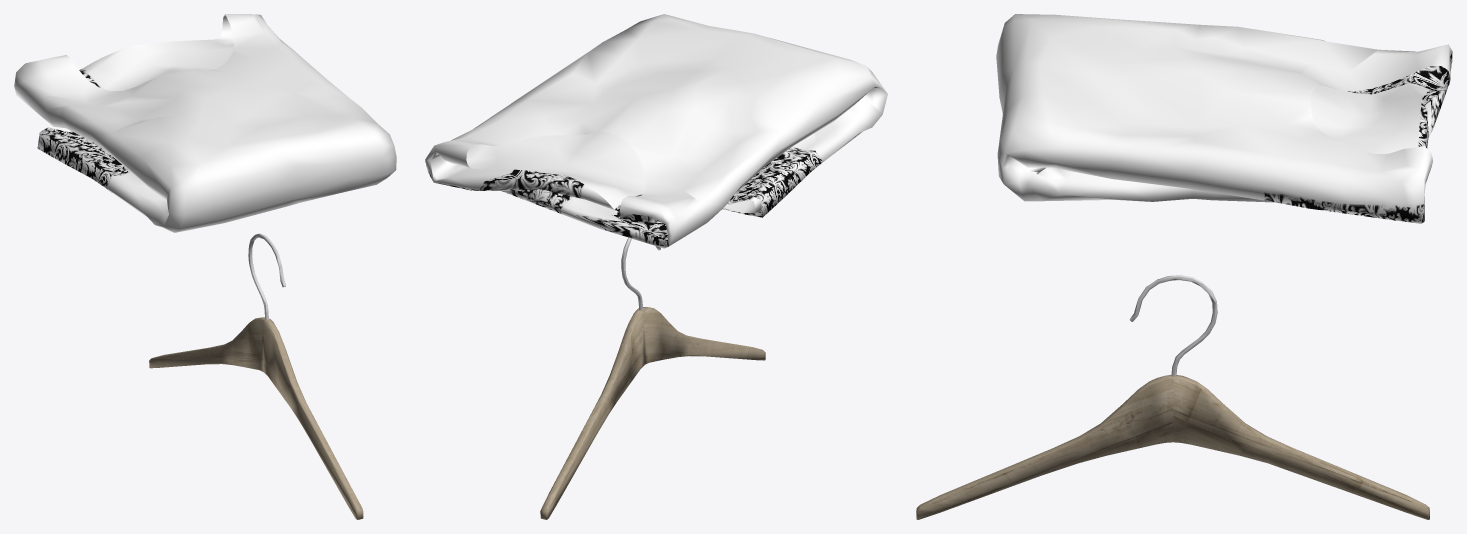
File: rod-cloth4448.glb
3 renders of one model, left to right at view 1: azimuth 30°, elevation 25°; view 2: azimuth 150°, elevation 25°; view 3: azimuth 270°, elevation 25°, orthographic. The views are drawn at different scales.
Visible parts, largest first — view 1: cloth4448.001, Hangers_for_clothes097.001; view 2: cloth4448.001, Hangers_for_clothes097.001; view 3: cloth4448.001, Hangers_for_clothes097.001.
Part boxes in pixels (left/top/right/bottom): cloth4448.001: left=14, top=14, right=396, bottom=232; Hangers_for_clothes097.001: left=149, top=233, right=363, bottom=519; cloth4448.001: left=425, top=14, right=887, bottom=248; Hangers_for_clothes097.001: left=540, top=237, right=765, bottom=519; cloth4448.001: left=996, top=14, right=1452, bottom=223; Hangers_for_clothes097.001: left=916, top=275, right=1429, bottom=519.
Size of the model in its own units: 0.3348 by 0.4081 by 0.4565.
3 materials, 2 textured.
